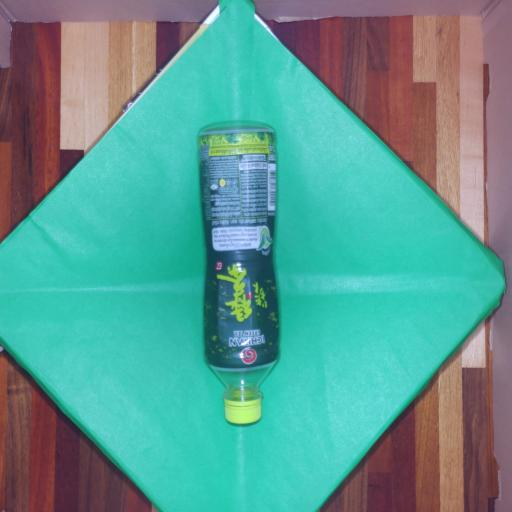bottle: (178, 106, 300, 437)
